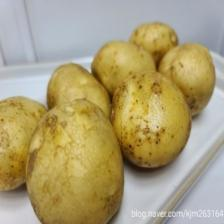Potato: (25, 98, 124, 224), (110, 70, 192, 170), (0, 94, 46, 192), (157, 42, 216, 118), (46, 60, 111, 126), (91, 41, 156, 102), (128, 23, 181, 67)
